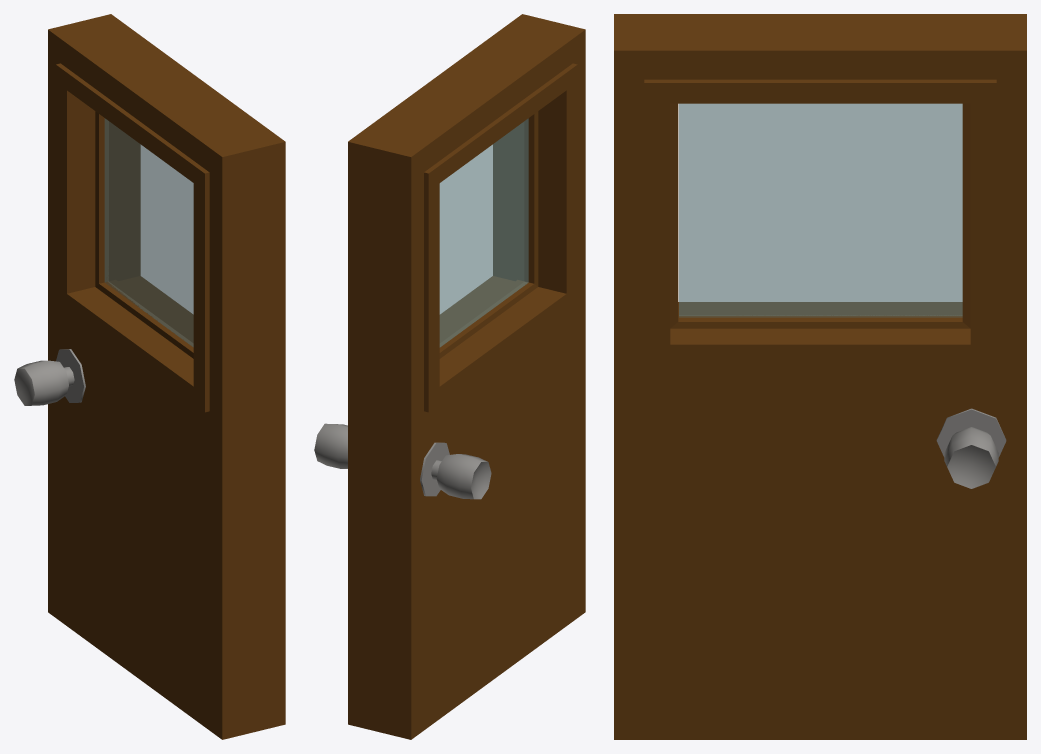
Rendered from Door.fbx.
The picture shows the model from 3 angles, left to right: view 1: azimuth 30°, elevation 25°; view 2: azimuth 150°, elevation 25°; view 3: azimuth 270°, elevation 25°; orthographic projection. The views are drawn at different scales.
Parts seen in each view (by area): view 1: Door, Door_Window; view 2: Door, Door_Window; view 3: Door, Door_Window.
Boxes of the visible parts, box(x1,y1,x2,y2) form: Door: box(14, 14, 285, 739); Door_Window: box(104, 118, 193, 347); Door: box(314, 14, 585, 739); Door_Window: box(439, 118, 528, 346); Door: box(614, 14, 1026, 739); Door_Window: box(679, 103, 962, 317).
Bounding box in the file's own units: 61.52 × 219 × 119.
